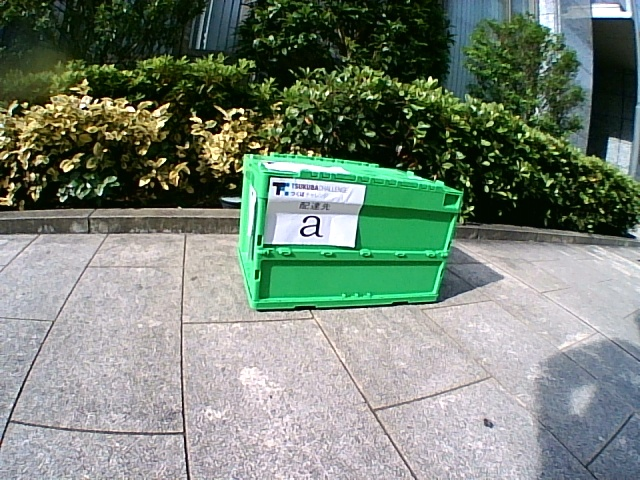blue_box: (237, 153, 463, 310)
tag: (268, 163, 344, 173)
tag_b: (270, 185, 354, 245)
